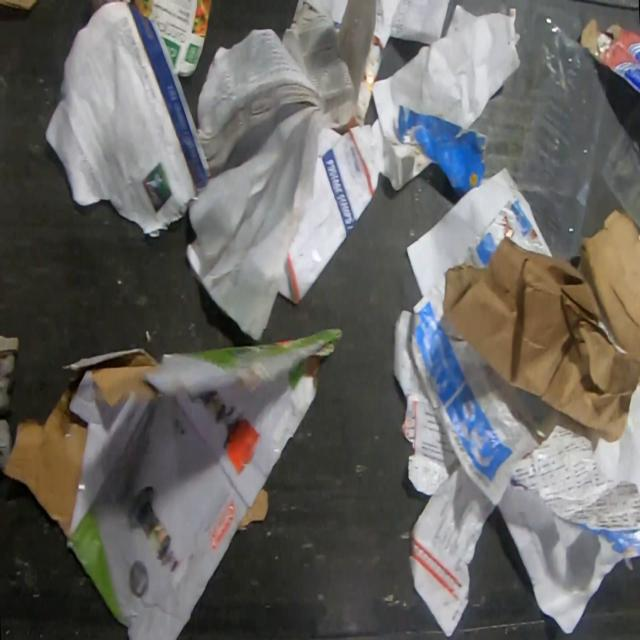cardboard: (0, 326, 345, 639), (444, 210, 640, 444), (133, 0, 215, 79), (579, 17, 640, 95), (0, 0, 40, 11)
soft_plastic: (440, 0, 640, 263)
